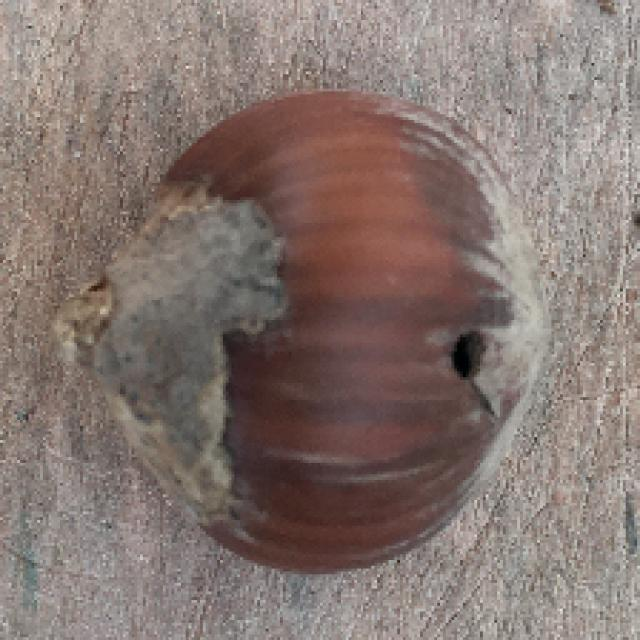damagedHazelnut: (80, 87, 544, 579)
